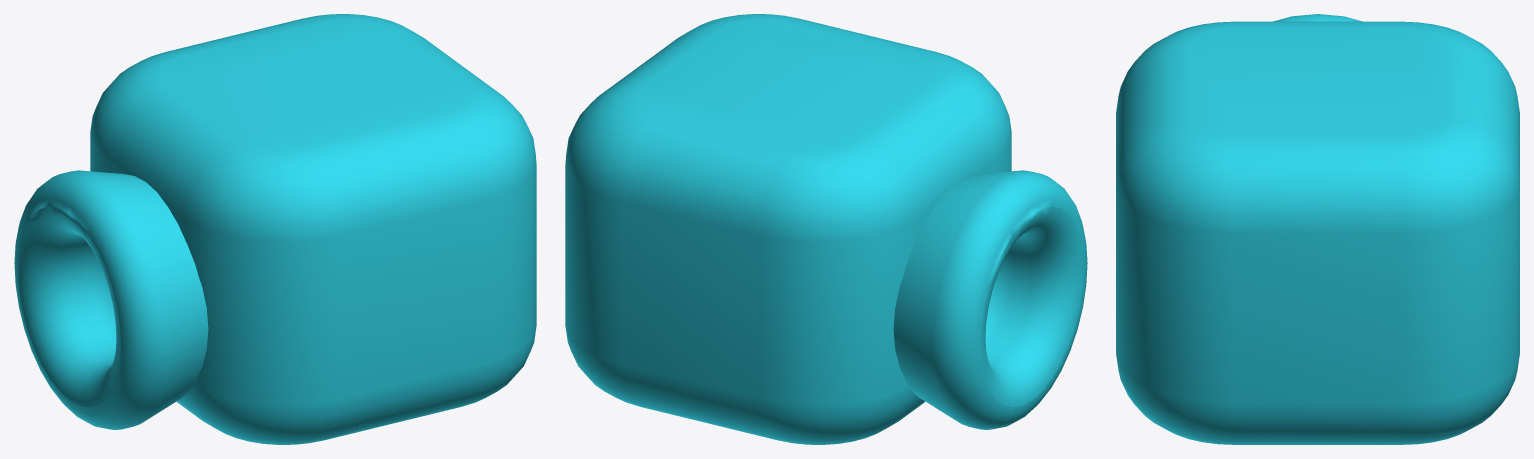
File: cannon.glb
3 views of the same model, side by side, from view 1: azimuth 30°, elevation 25°; view 2: azimuth 150°, elevation 25°; view 3: azimuth 270°, elevation 25° (orthographic). The views are drawn at different scales.
Parts seen in each view (by area): view 1: cannon-0; view 2: cannon-0; view 3: cannon-0.
Part boxes in pixels (bbox=[...]): cannon-0: bbox=[14, 14, 536, 444]; cannon-0: bbox=[565, 14, 1087, 444]; cannon-0: bbox=[1116, 14, 1519, 444].
Bounding box in the file's own units: 1.84 × 1.23 × 1.5.
